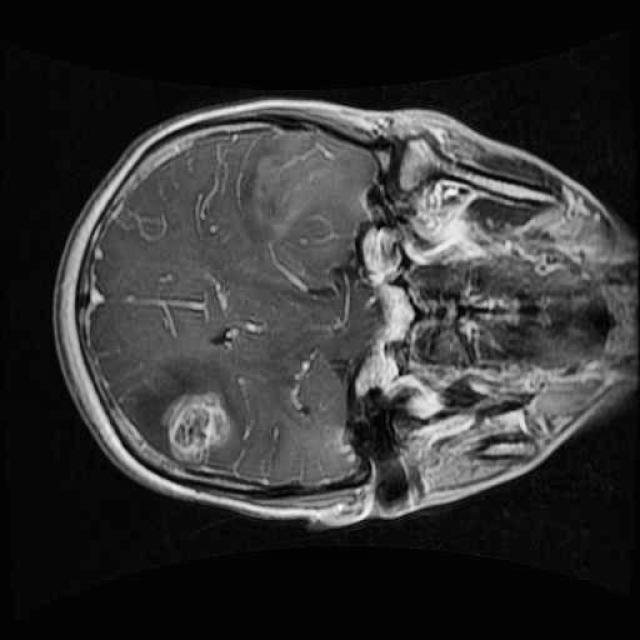Non-Tumor: (114, 342, 250, 481)
